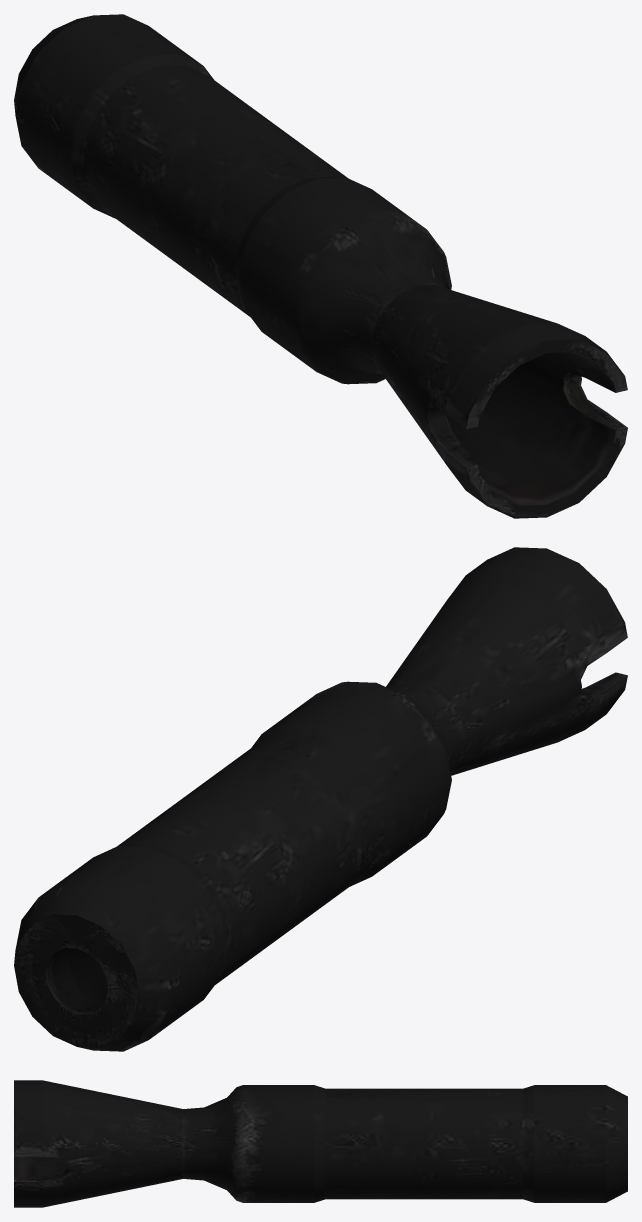
The model's file is muzzleboost.vm.attachment.glb.
3 renders of one model, top to bottom at view 1: azimuth 30°, elevation 25°; view 2: azimuth 150°, elevation 25°; view 3: azimuth 270°, elevation 25°, orthographic. The views are drawn at different scales.
Parts seen in each view (by area): view 1: muzzleboost_LOD0; view 2: muzzleboost_LOD0; view 3: muzzleboost_LOD0.
Boxes of the visible parts, box(x1,y1,x2,y2) form: muzzleboost_LOD0: box(14, 14, 627, 518); muzzleboost_LOD0: box(14, 547, 627, 1051); muzzleboost_LOD0: box(14, 1080, 627, 1207).
Size of the model in its own units: 0.0116 by 0.0121 by 0.0582.
1 material, 1 textured.
